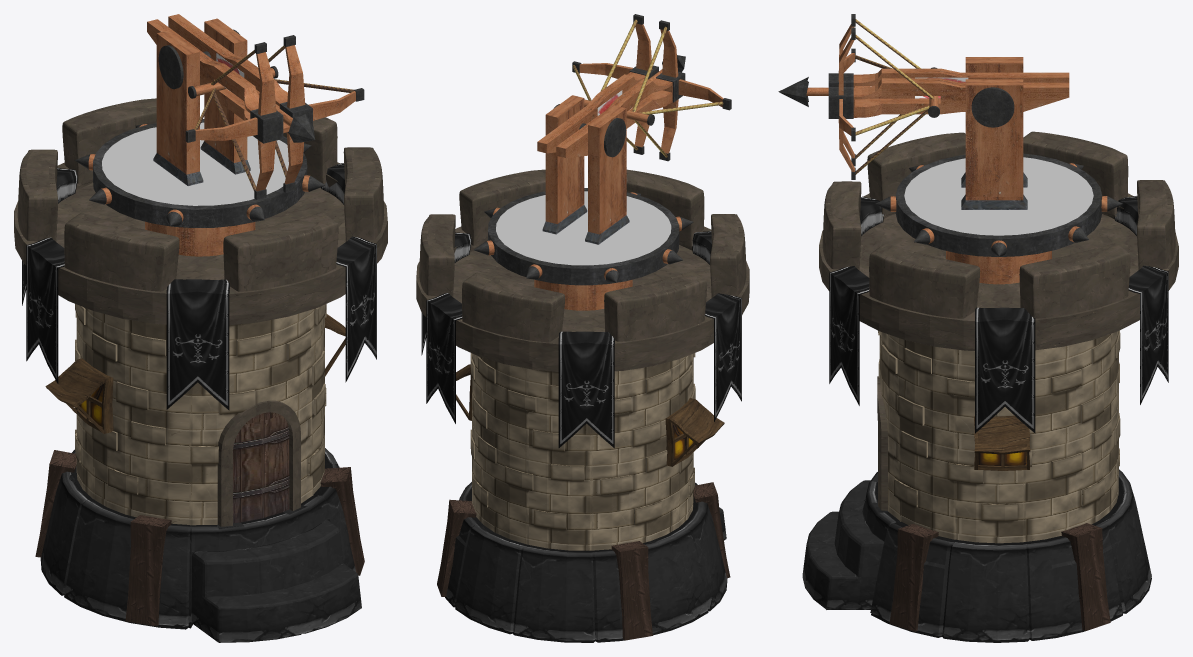
File: torre.fbx
The picture shows the model from 3 angles, left to right: view 1: azimuth 30°, elevation 25°; view 2: azimuth 150°, elevation 25°; view 3: azimuth 270°, elevation 25°; orthographic projection. The views are drawn at different scales.
Parts seen in each view (by area): view 1: Cylinder.002, Cylinder, Cube.004, Cylinder.003, Cylinder.007, Cylinder.008, Plane.000, Cube.005, Cylinder.024, Plane.003, Cube.001, Cylinder.001 (+4 smaller); view 2: Cylinder, Cylinder.002, Cube.004, Cylinder.003, Plane.000, Cylinder.008, Cylinder.007, Cube.005, Cylinder.024, Cube.002, Cube.008, Cube.003 (+1 smaller); view 3: Cylinder, Cylinder.002, Cube.004, Cylinder.003, Cylinder.008, Cylinder.007, Plane.000, Cube.005, Cylinder.024, Plane.003, Cube, Cube.003 (+2 smaller).
Part boxes in pixels (box(x1,y1,x2,y2)): Cylinder.002: box(40, 448, 361, 642); Cylinder: box(76, 307, 324, 525); Cube.004: box(17, 98, 384, 291); Cylinder.003: box(75, 119, 325, 256); Cylinder.007: box(147, 14, 364, 199); Cylinder.008: box(14, 162, 387, 325); Plane.000: box(22, 163, 345, 410); Cube.005: box(153, 18, 250, 185); Cylinder.024: box(75, 304, 326, 494); Plane.003: box(336, 236, 376, 382); Cube.001: box(125, 515, 171, 626); Cylinder.001: box(217, 400, 300, 526); Cylinder: box(472, 353, 693, 550); Cylinder.002: box(445, 482, 727, 642); Cube.004: box(419, 169, 746, 342); Cylinder.003: box(474, 188, 693, 310); Plane.000: box(421, 231, 741, 448); Cylinder.008: box(416, 226, 749, 371); Cylinder.007: box(537, 14, 731, 161); Cube.005: box(542, 95, 629, 244); Cylinder.024: box(470, 353, 695, 529); Cube.002: box(611, 541, 652, 640); Cube.008: box(665, 398, 724, 466); Cube.003: box(437, 499, 476, 596); Cylinder: box(879, 331, 1118, 543); Cylinder.002: box(802, 469, 1151, 642); Cube.004: box(822, 131, 1175, 318); Cylinder.003: box(875, 153, 1122, 284); Cylinder.008: box(819, 193, 1178, 350); Cylinder.007: box(828, 14, 1069, 179); Plane.000: box(860, 196, 1168, 433); Cube.005: box(961, 57, 1027, 209); Cylinder.024: box(878, 330, 1120, 521); Plane.003: box(829, 266, 869, 405); Cube: box(889, 524, 938, 631); Cube.003: box(1061, 523, 1110, 631).
Size of the model in its own units: 827 by 1384 by 907.
